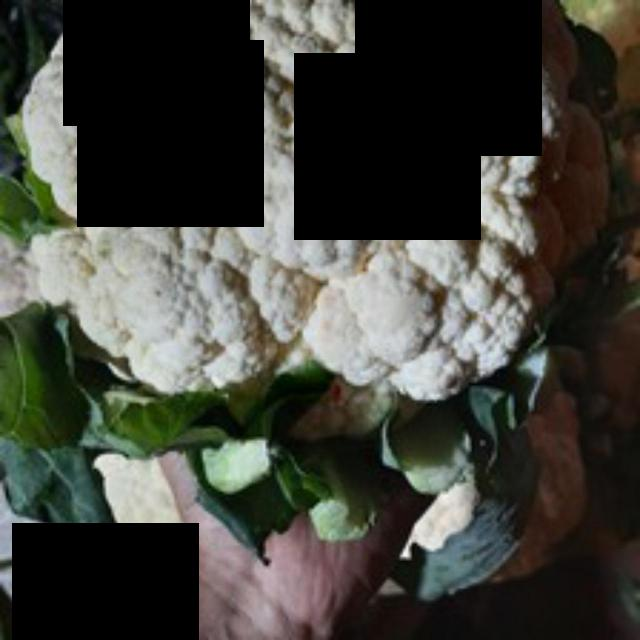cauliflower: (0, 0, 568, 425)
